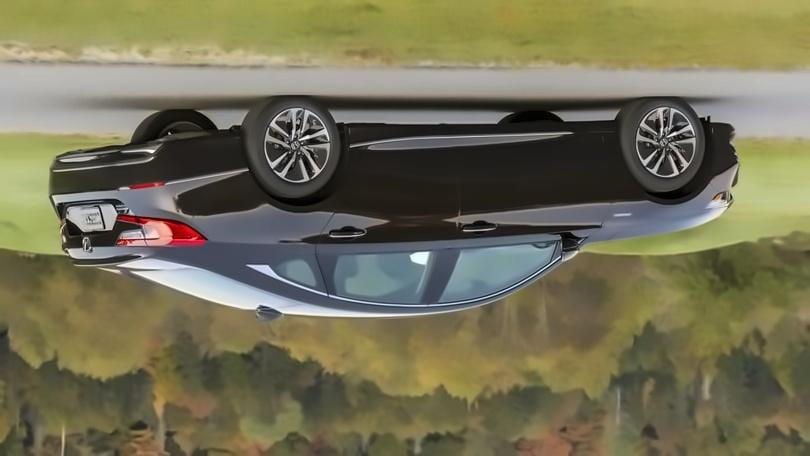Car boot: (53, 198, 176, 272)
Car hood: (579, 214, 736, 248)
Fender - -F-L-: (556, 150, 713, 242)
Fender - -R-L-: (206, 144, 348, 276)
Headlight - -L-: (708, 189, 734, 214)
Passenger-s door - -F-L-: (419, 114, 621, 323)
Passenger-s door - -R-L-: (304, 113, 467, 325)
Rear bumper: (49, 125, 252, 199)
Rear light - -L-: (113, 209, 205, 247)
Side bumper - -L-: (340, 114, 622, 168)
Side mirror - -L-: (553, 228, 585, 265)
